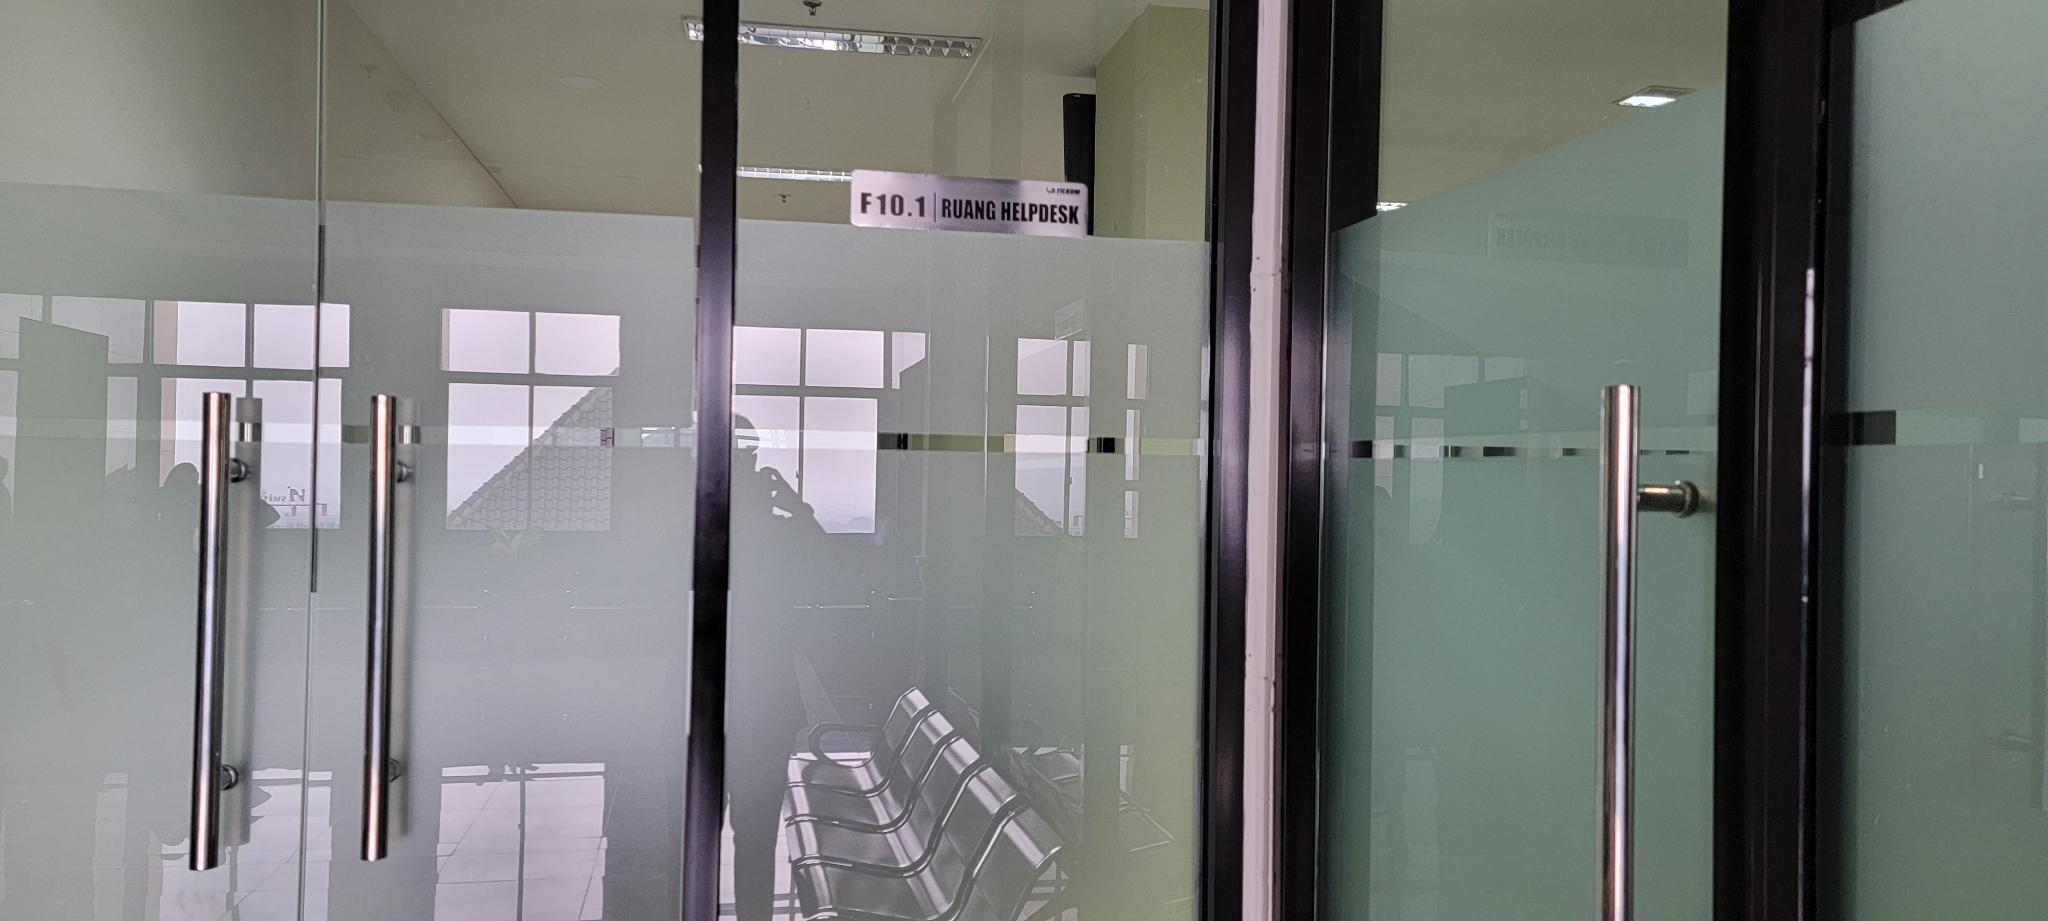plate: (848, 162, 1087, 242)
